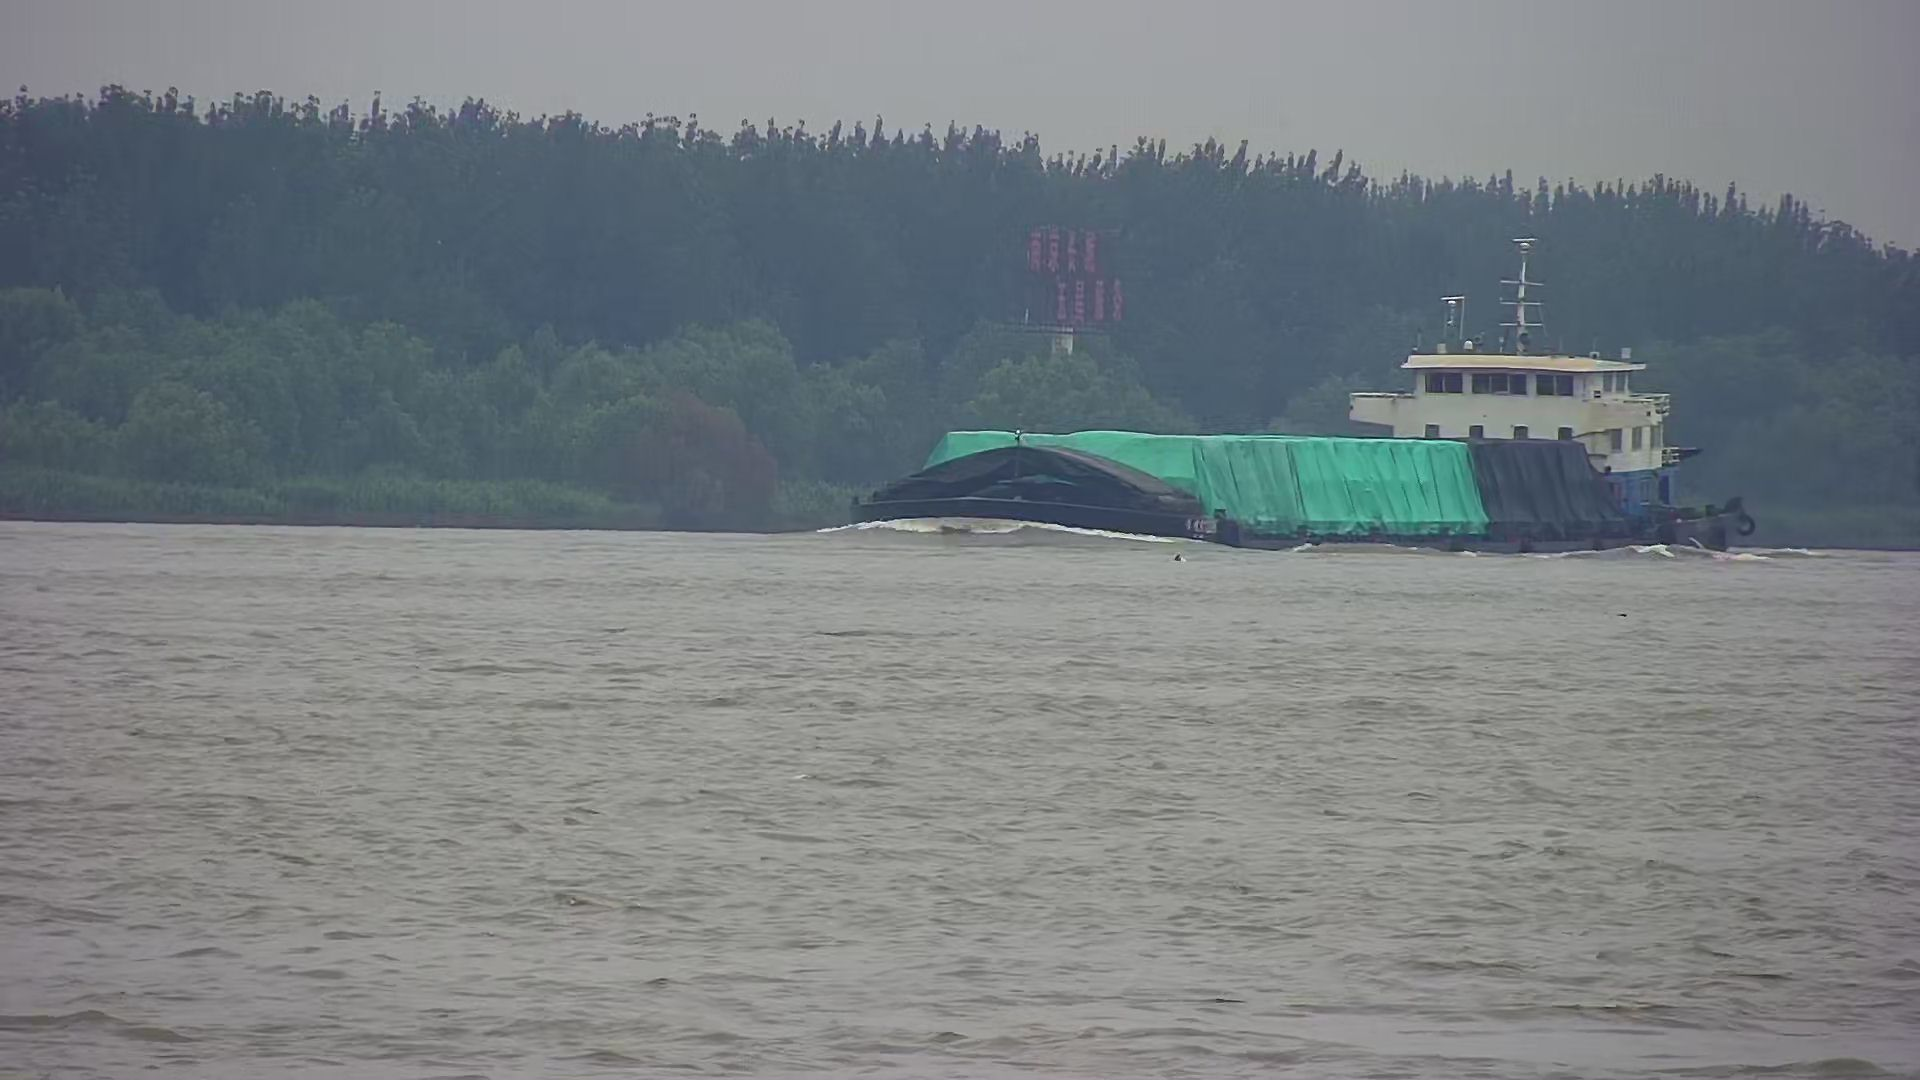ship: (840, 332, 1749, 556)
